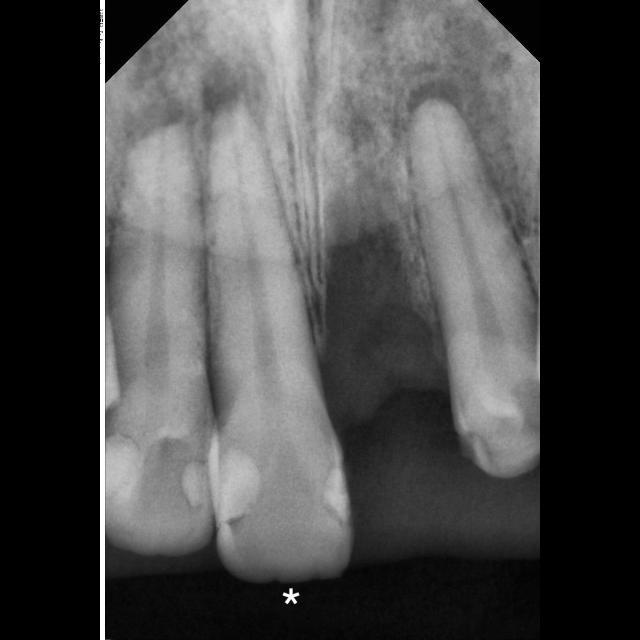test-segment: (209, 108, 351, 581)
